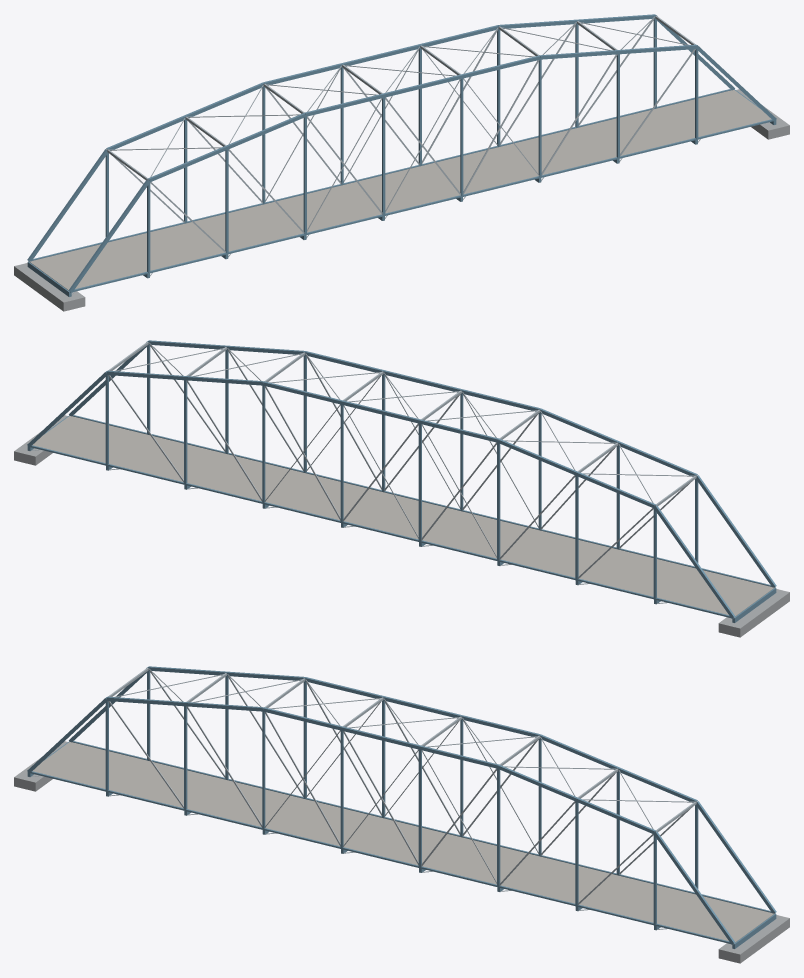
Rendered from bridge.glb.
3 renders of one model, top to bottom at view 1: azimuth 30°, elevation 25°; view 2: azimuth 150°, elevation 25°; view 3: azimuth 330°, elevation 25°, orthographic.
Visible parts, largest first — view 1: deck_001, bearing_block_001, upper_chord_001, upper_chord_010, bearing_block_002; view 2: deck_001, bearing_block_001, upper_chord_010, upper_chord_001, bearing_block_002; view 3: deck_001, bearing_block_002, upper_chord_009, upper_chord_018, bearing_block_001.
Boxes of the visible parts, x1,y1,x2,y2 form: deck_001: (29,90,771,291); bearing_block_001: (14,263,85,311); upper_chord_001: (69,179,149,292); upper_chord_010: (27,149,107,261); bearing_block_002: (736,89,789,139); deck_001: (32,416,774,617); bearing_block_001: (718,589,789,637); upper_chord_010: (653,505,734,618); upper_chord_001: (696,475,776,587); bearing_block_002: (14,415,67,465); deck_001: (32,742,774,943); bearing_block_002: (718,915,789,963); upper_chord_009: (654,831,734,944); upper_chord_018: (696,801,776,913); bearing_block_001: (14,741,67,791).
Size of the model in its own units: 50.19 by 8.95 by 5.95.
